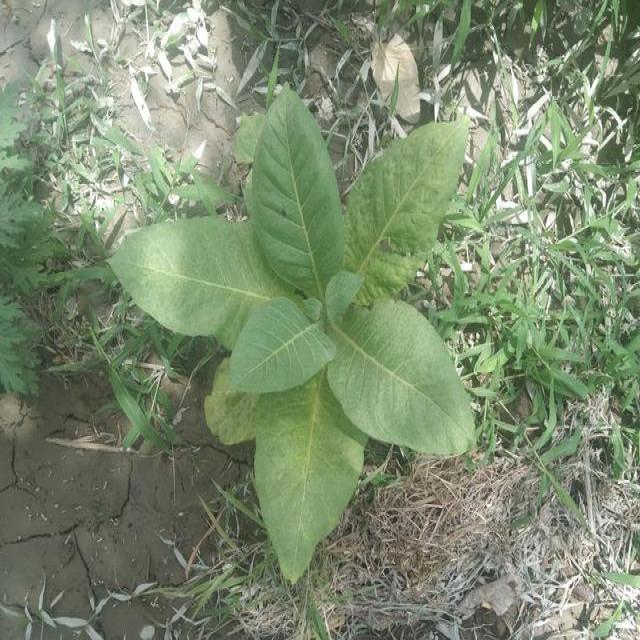crop: (130, 90, 479, 550)
